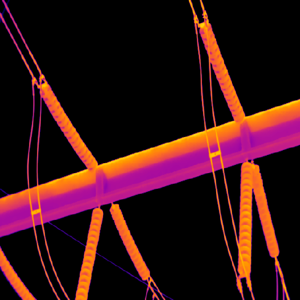insulator: (38, 81, 97, 170), (198, 21, 246, 125), (109, 201, 150, 280), (248, 163, 280, 258), (76, 204, 103, 300), (236, 159, 253, 276), (0, 248, 36, 298)
